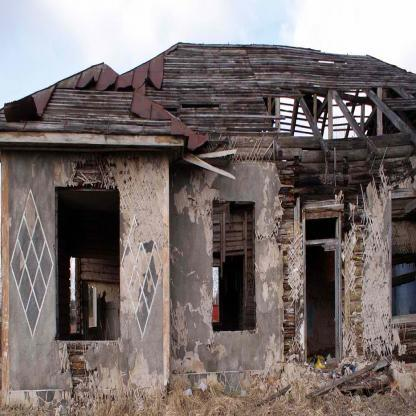Building Outline: (0, 42, 416, 411)
Door: (305, 244, 337, 362)
Facade: (1, 157, 416, 397)
Ground Floor: (1, 147, 416, 397)
Roof: (0, 42, 416, 159)
Window: (55, 187, 120, 341), (213, 200, 256, 332), (391, 197, 416, 315), (305, 218, 337, 240)
